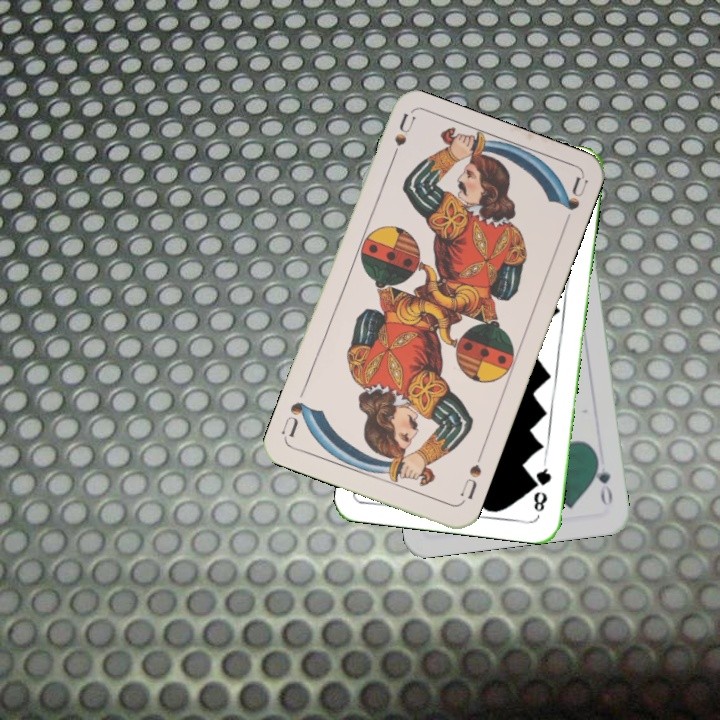G8: (529, 458, 554, 515)
GO: (590, 451, 615, 508)
SU: (385, 111, 418, 169), (456, 449, 485, 502)
